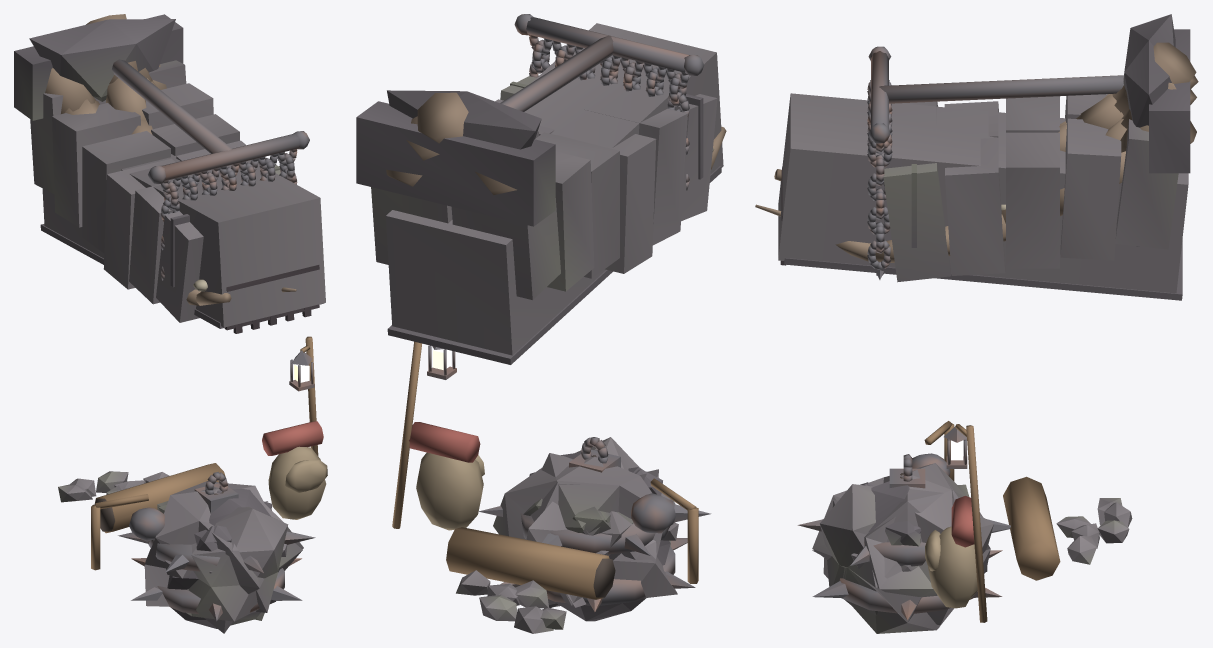
Rendered from props.glb.
3 renders of one model, left to right at view 1: azimuth 30°, elevation 25°; view 2: azimuth 150°, elevation 25°; view 3: azimuth 270°, elevation 25°, orthographic. The views are drawn at different scales.
Parts seen in each view (by area): view 1: Low_Arch_Stone, Low_Lintel_Stone, Camp_Base, Low_Roots_Wood, Low_Chains_Iron, SwingWeight, Boulder0, Boulder1, Boulder2; view 2: Low_Arch_Stone, Low_Lintel_Stone, Camp_Base, Low_Chains_Iron, Boulder0, Low_Roots_Wood, SwingWeight, Boulder2, Boulder1; view 3: Low_Arch_Stone, Low_Lintel_Stone, Camp_Base, Low_Chains_Iron, Low_Roots_Wood, SwingWeight, Boulder0, Boulder2, Boulder1.
Boxes of the visible parts, left/top/right/bottom form: Low_Arch_Stone: left=14, top=14, right=280, bottom=502; Low_Lintel_Stone: left=40, top=149, right=325, bottom=333; Camp_Base: left=91, top=336, right=327, bottom=578; Low_Roots_Wood: left=29, top=14, right=296, bottom=305; Low_Chains_Iron: left=112, top=59, right=309, bottom=280; SwingWeight: left=118, top=472, right=315, bottom=628; Boulder0: left=144, top=481, right=303, bottom=633; Boulder1: left=186, top=482, right=302, bottom=621; Boulder2: left=157, top=501, right=288, bottom=612; Low_Arch_Stone: left=356, top=76, right=717, bottom=633; Low_Lintel_Stone: left=386, top=23, right=723, bottom=364; Camp_Base: left=392, top=341, right=698, bottom=599; Low_Chains_Iron: left=500, top=14, right=704, bottom=190; Boulder0: left=493, top=456, right=677, bottom=598; Low_Roots_Wood: left=386, top=90, right=726, bottom=195; SwingWeight: left=478, top=437, right=711, bottom=621; Boulder2: left=526, top=437, right=662, bottom=607; Boulder1: left=523, top=453, right=670, bottom=608; Low_Arch_Stone: left=883, top=29, right=1190, bottom=564; Low_Lintel_Stone: left=778, top=93, right=1188, bottom=300; Camp_Base: left=851, top=421, right=1060, bottom=622; Low_Chains_Iron: left=867, top=46, right=1123, bottom=279; Low_Roots_Wood: left=755, top=14, right=1198, bottom=262; SwingWeight: left=797, top=454, right=1010, bottom=619; Boulder0: left=812, top=463, right=964, bottom=597; Boulder2: left=819, top=482, right=993, bottom=627; Boulder1: left=823, top=484, right=990, bottom=633.
Size of the model in its own units: 2.27 by 4.71 by 3.21.
